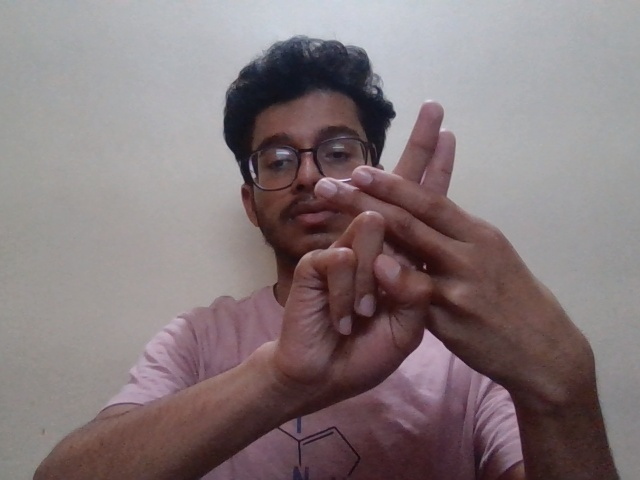disabled: (283, 111, 604, 412)
